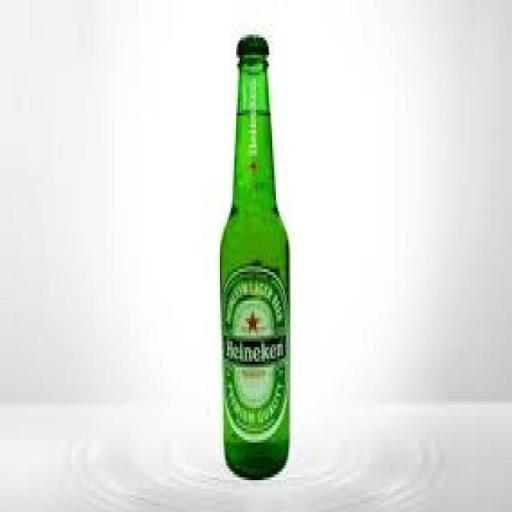glass: (209, 25, 300, 495)
